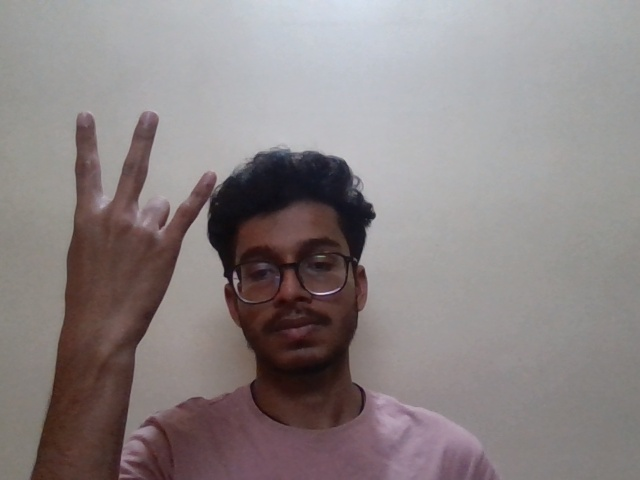why: (71, 109, 234, 340)
